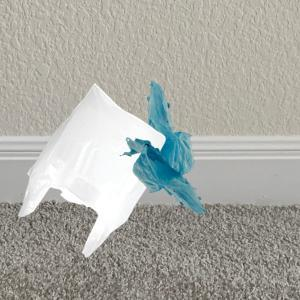plastic_bag: (13, 80, 167, 260)
